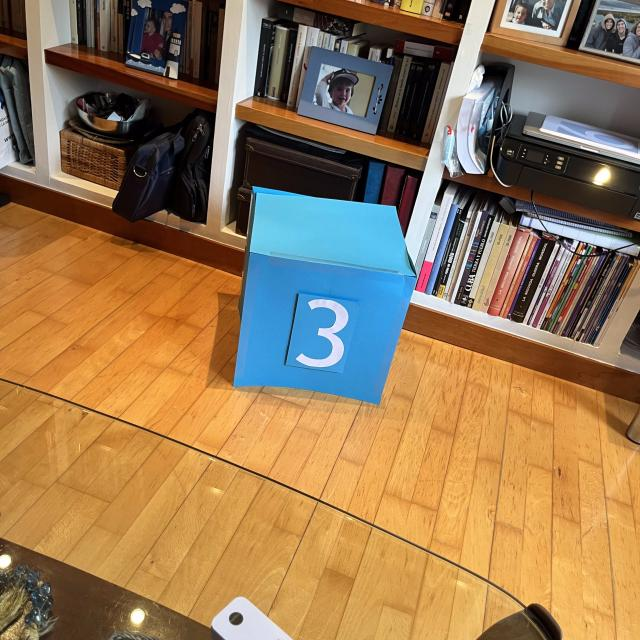box: (230, 183, 420, 407)
